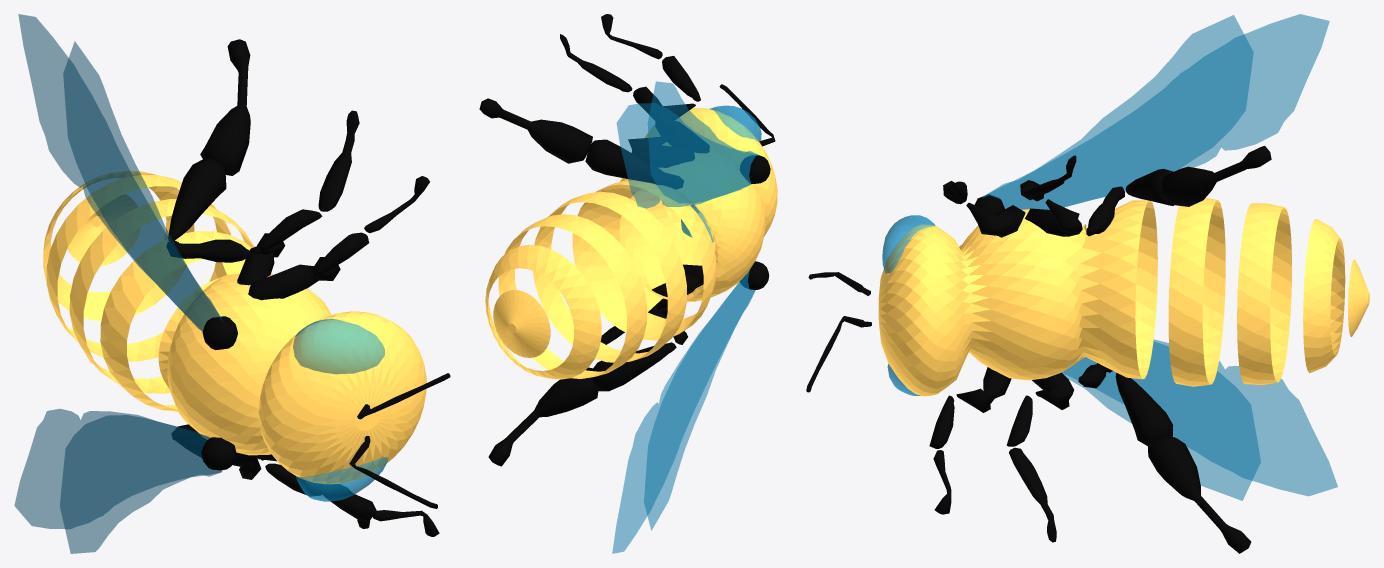
Rendered from beeFinal666.fbx.
3 renders of one model, left to right at view 1: azimuth 30°, elevation 25°; view 2: azimuth 150°, elevation 25°; view 3: azimuth 270°, elevation 25°, orthographic. The views are drawn at different scales.
Parts seen in each view (by area): view 1: BEE, AilesMarcheuse, PattesMarcheuse; view 2: BEE, AilesMarcheuse, PattesMarcheuse; view 3: BEE, AilesMarcheuse, PattesMarcheuse.
Part boxes in pixels (x1,y1,x2,y2): BEE: [43, 171, 450, 508]; AilesMarcheuse: [14, 14, 237, 553]; PattesMarcheuse: [166, 39, 439, 536]; BEE: [485, 84, 777, 379]; AilesMarcheuse: [612, 81, 770, 553]; PattesMarcheuse: [479, 14, 709, 466]; BEE: [806, 198, 1369, 396]; AilesMarcheuse: [974, 14, 1337, 500]; PattesMarcheuse: [929, 146, 1271, 553].
Bounding box in the file's own units: 2.96 × 6.5 × 6.83.
